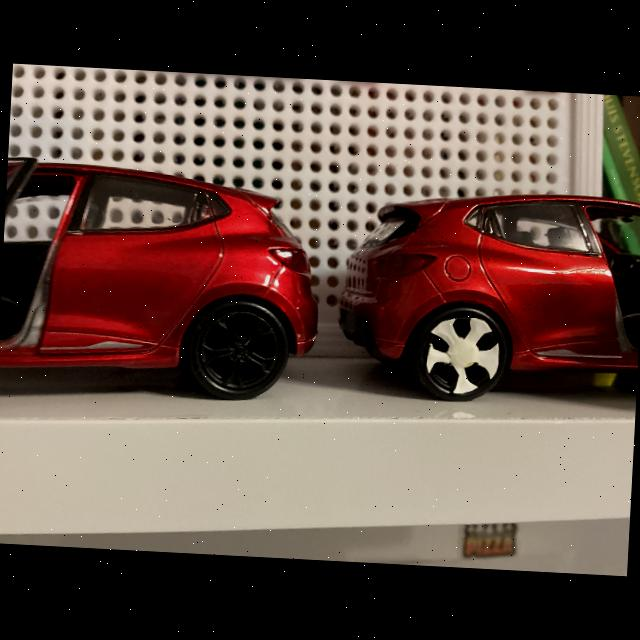Dogru_Jant: (198, 310, 281, 392)
Yanlis_Jant: (423, 313, 502, 398)
